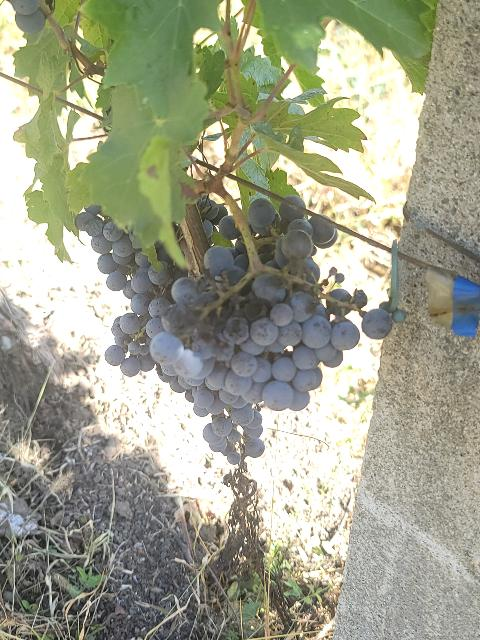grapes: (146, 199, 366, 464), (75, 205, 169, 376)
